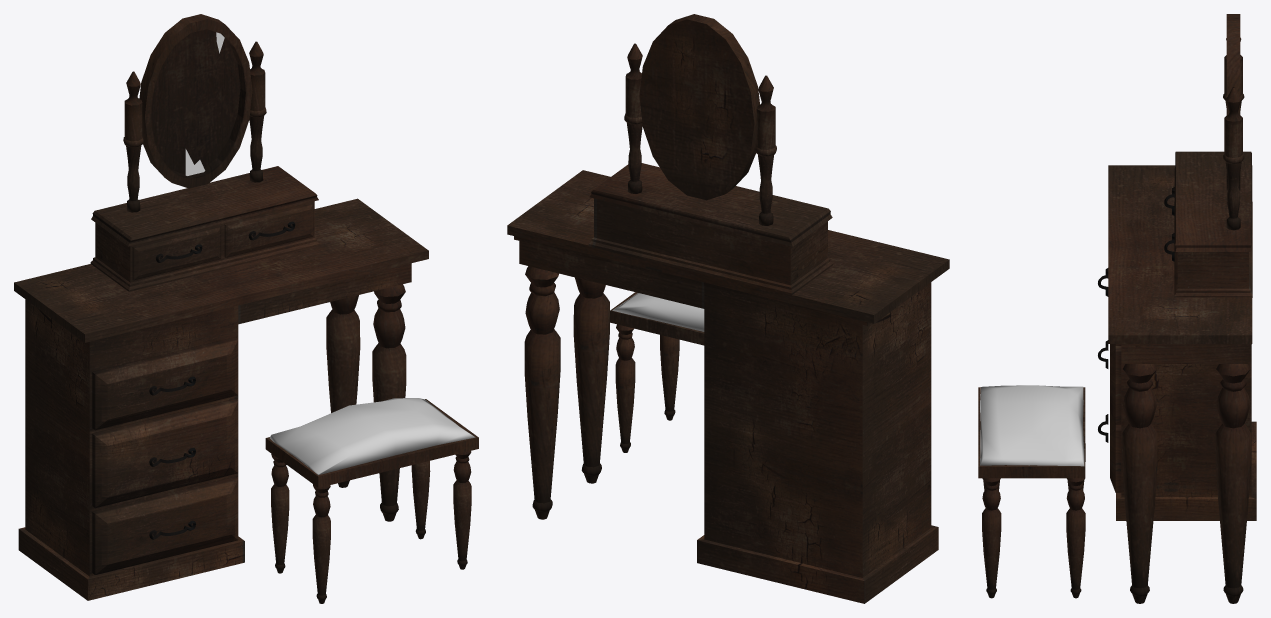
File: Dresser (1).FBX
The picture shows the model from 3 angles, left to right: view 1: azimuth 30°, elevation 25°; view 2: azimuth 150°, elevation 25°; view 3: azimuth 270°, elevation 25°; orthographic projection. The views are drawn at different scales.
Visible parts, largest first — view 1: dresser, chair, pillow; view 2: dresser, chair, pillow; view 3: dresser, pillow, chair.
Boxes of the visible parts, x1,y1,x2,y2 form: dresser: [14, 14, 428, 600]; chair: [265, 399, 478, 603]; pillow: [270, 398, 475, 475]; dresser: [507, 14, 949, 603]; chair: [610, 292, 704, 452]; pillow: [612, 293, 704, 331]; dresser: [1098, 14, 1256, 603]; pillow: [980, 385, 1084, 466]; chair: [978, 387, 1085, 598].
Bounding box in the file's own units: 371 × 520 × 257.
